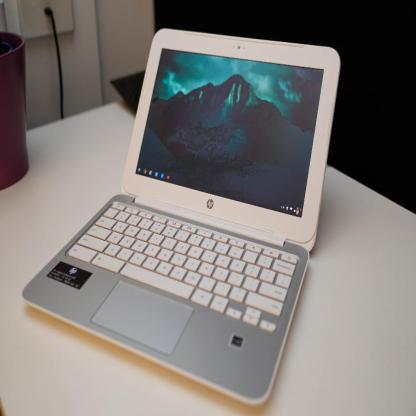board: (21, 25, 341, 406)
